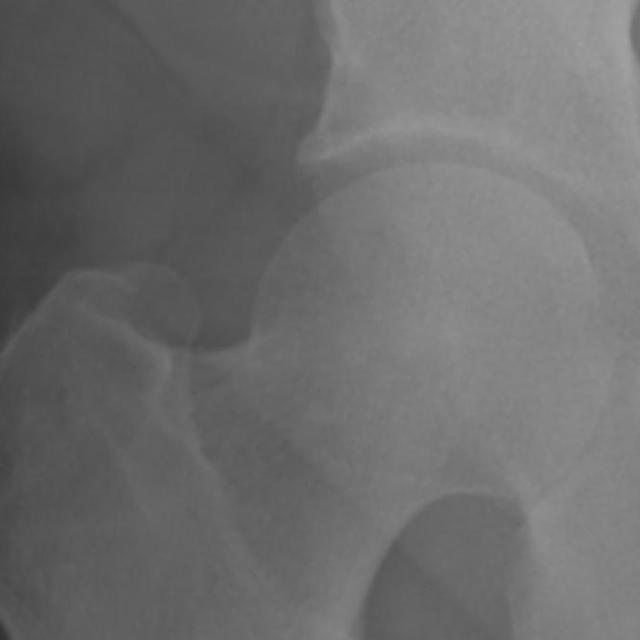Fitted_femural_head: (363, 163, 432, 363)
